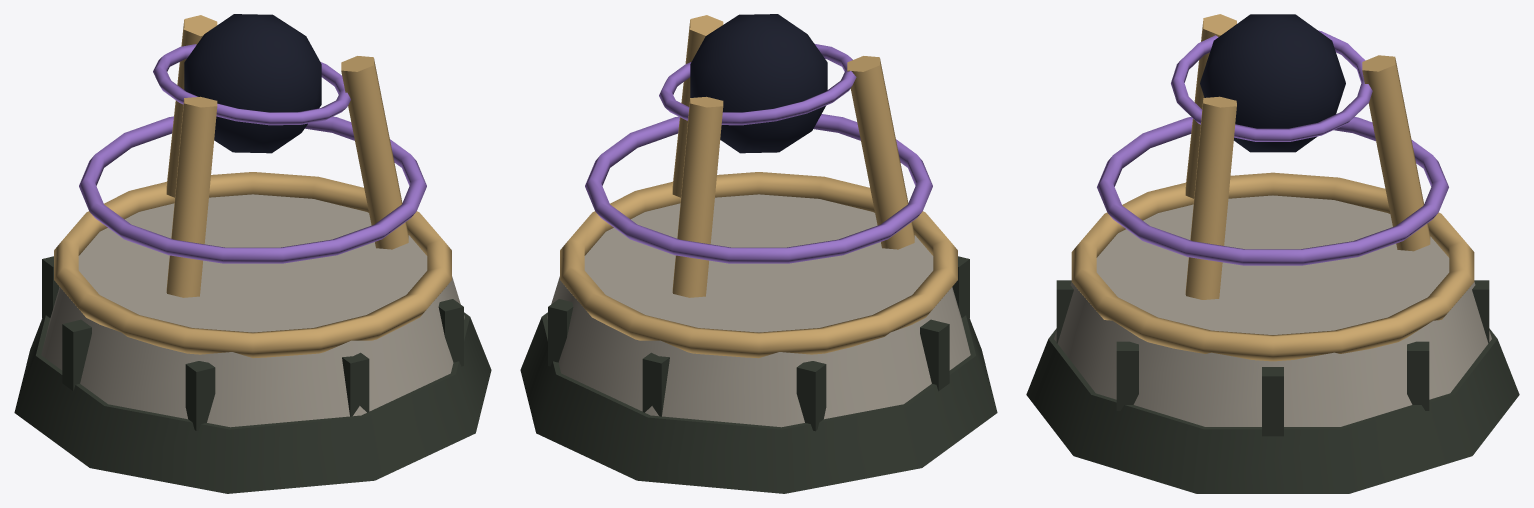
File: tower_gravity_gravityResonator.glb
3 renders of one model, left to right at view 1: azimuth 30°, elevation 25°; view 2: azimuth 150°, elevation 25°; view 3: azimuth 270°, elevation 25°, orthographic.
Visible parts, largest first — view 1: stone_1, foot_0, rim_2, black_hole_11, pulse_16, claw_14, claw_13, accretion_15, claw_12, mortar_6, mortar_7, mortar_5 (+2 smaller); view 2: stone_1, foot_0, rim_2, black_hole_11, pulse_16, claw_12, claw_14, accretion_15, claw_13, mortar_8, mortar_7, mortar_9 (+2 smaller); view 3: stone_1, foot_0, rim_2, black_hole_11, pulse_16, claw_13, claw_12, accretion_15, claw_14, mortar_3, mortar_4, mortar_10 (+2 smaller).
Part boxes in pixels (left/top/right/bottom): stone_1: left=41, top=194, right=464, bottom=427; foot_0: left=14, top=312, right=491, bottom=493; rim_2: left=54, top=172, right=451, bottom=358; black_hole_11: left=184, top=14, right=321, bottom=153; pulse_16: left=79, top=116, right=426, bottom=263; claw_14: left=166, top=96, right=217, bottom=297; claw_13: left=341, top=56, right=408, bottom=249; accretion_15: left=153, top=44, right=350, bottom=125; claw_12: left=166, top=15, right=217, bottom=197; mortar_6: left=185, top=361, right=215, bottom=431; mortar_7: left=62, top=319, right=91, bottom=391; mortar_5: left=342, top=352, right=369, bottom=416; stone_1: left=547, top=194, right=970, bottom=427; foot_0: left=520, top=312, right=997, bottom=493; rim_2: left=560, top=172, right=957, bottom=358; black_hole_11: left=690, top=14, right=827, bottom=153; pulse_16: left=585, top=114, right=932, bottom=263; claw_12: left=672, top=96, right=723, bottom=297; claw_14: left=847, top=56, right=914, bottom=249; accretion_15: left=659, top=43, right=856, bottom=125; claw_13: left=672, top=15, right=723, bottom=197; mortar_8: left=796, top=361, right=826, bottom=431; mortar_7: left=920, top=319, right=949, bottom=391; mortar_9: left=642, top=352, right=669, bottom=416; stone_1: left=1054, top=195, right=1491, bottom=426; foot_0: left=1026, top=328, right=1519, bottom=493; rim_2: left=1071, top=172, right=1474, bottom=361; black_hole_11: left=1200, top=14, right=1345, bottom=152; pulse_16: left=1097, top=117, right=1448, bottom=265; claw_13: left=1185, top=96, right=1236, bottom=299; claw_12: left=1362, top=55, right=1430, bottom=251; accretion_15: left=1171, top=30, right=1372, bottom=141; claw_14: left=1185, top=14, right=1236, bottom=198; mortar_3: left=1262, top=367, right=1283, bottom=436; mortar_4: left=1116, top=341, right=1138, bottom=410; mortar_10: left=1407, top=341, right=1429, bottom=410.
Bounding box in the file's own units: 0.5326 × 0.473 × 0.56.
